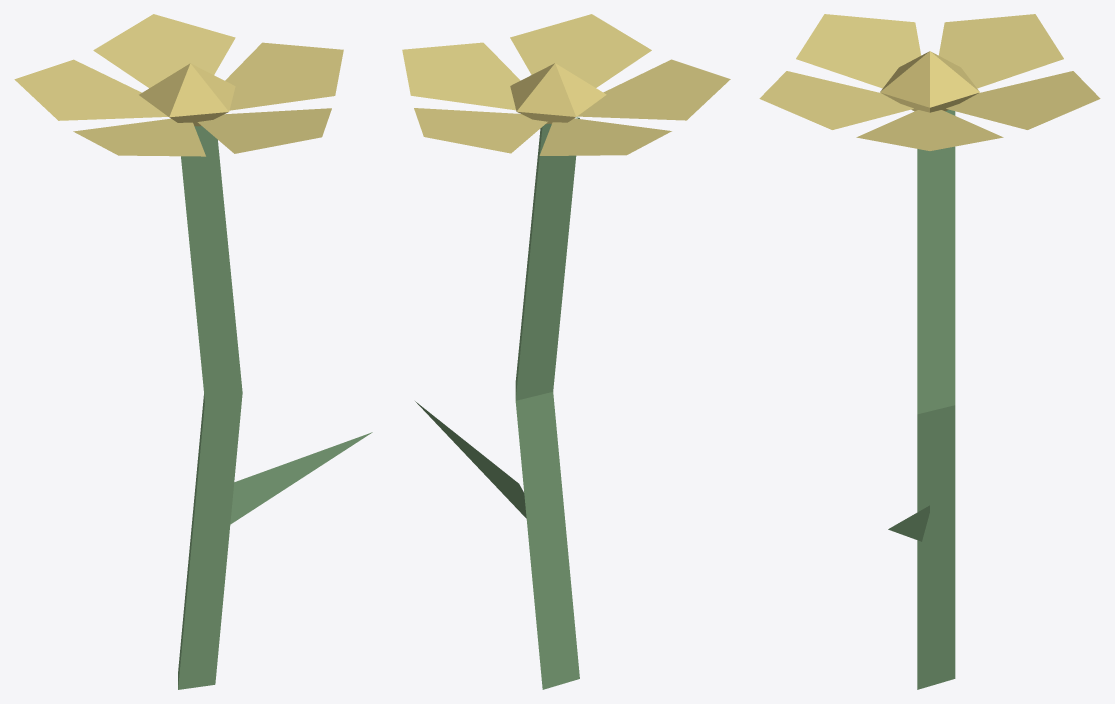
Rendered from wild_flower_1.gltf.
3 views of the same model, side by side, from view 1: azimuth 30°, elevation 25°; view 2: azimuth 150°, elevation 25°; view 3: azimuth 270°, elevation 25° (orthographic).
Parts seen in each view (by area): view 1: wild_flower_1; view 2: wild_flower_1; view 3: wild_flower_1.
Part boxes in pixels (x1,y1,x2,y2): wild_flower_1: [14, 14, 372, 689]; wild_flower_1: [402, 14, 730, 689]; wild_flower_1: [759, 14, 1100, 689].
Size of the model in its own units: 0.1591 by 0.329 by 0.1617.
